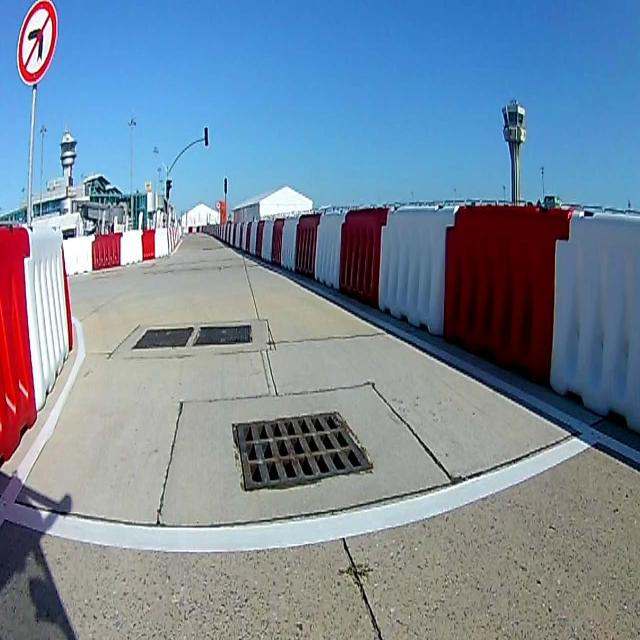soladonulmez: (17, 1, 57, 83)
